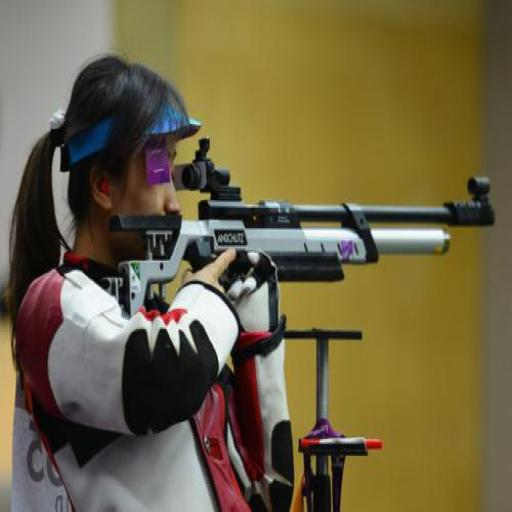shooting: (6, 52, 305, 510)
